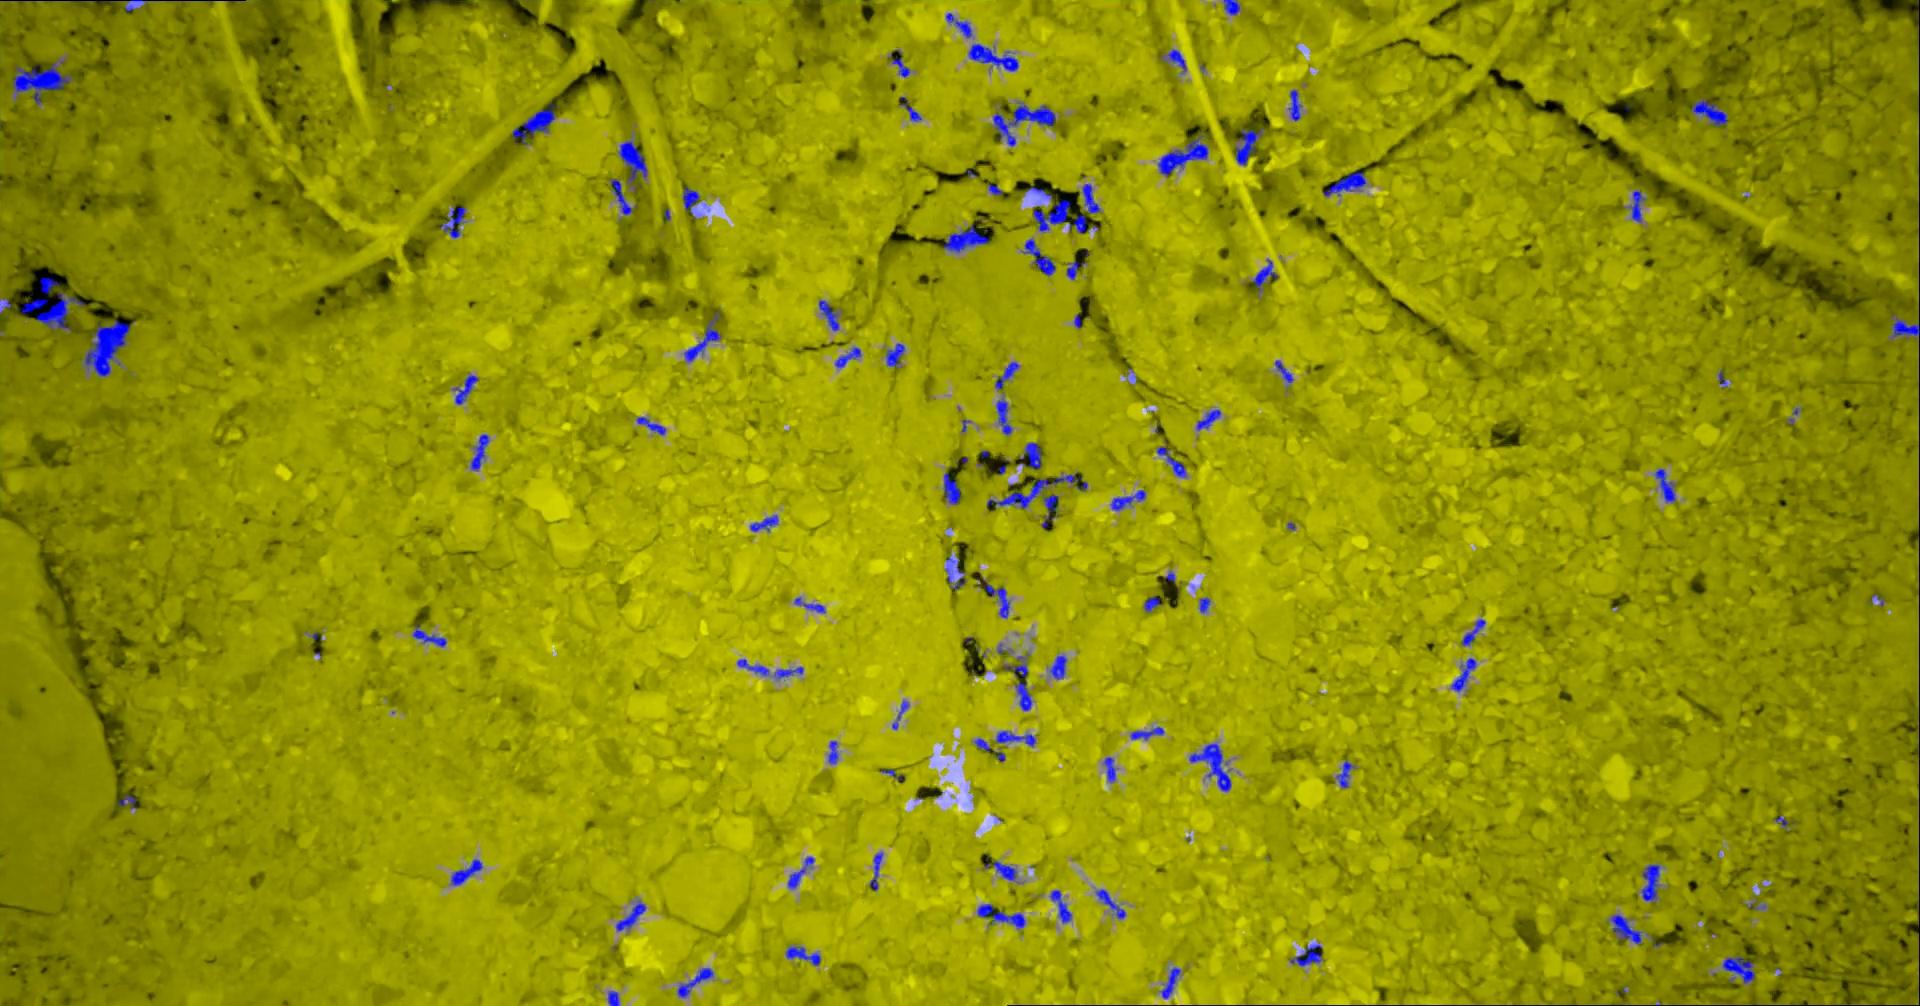ant: (985, 473, 1087, 508), (992, 102, 1055, 146), (11, 64, 70, 104), (1157, 133, 1208, 177), (1189, 743, 1230, 791), (683, 312, 720, 361), (510, 103, 554, 144), (968, 43, 1018, 71), (1032, 198, 1070, 231), (943, 224, 988, 251), (1023, 238, 1055, 276), (618, 140, 646, 183), (979, 578, 1010, 617), (977, 903, 1023, 929), (1234, 127, 1263, 165), (677, 967, 712, 997), (1322, 171, 1365, 196), (1156, 446, 1186, 478), (1691, 99, 1727, 126), (450, 857, 483, 885), (1095, 889, 1125, 918), (615, 901, 645, 930), (1722, 955, 1754, 983), (1450, 657, 1476, 691), (1611, 915, 1641, 944), (984, 854, 1016, 880), (411, 622, 446, 647), (610, 178, 632, 213), (439, 206, 465, 238), (1252, 259, 1277, 291), (787, 856, 813, 888), (1110, 489, 1145, 511), (452, 375, 477, 404), (1049, 889, 1070, 922), (1655, 467, 1675, 502), (945, 11, 971, 37), (785, 946, 820, 965), (994, 361, 1018, 389), (1290, 944, 1321, 965), (1641, 864, 1658, 901), (470, 434, 488, 470), (1078, 183, 1100, 212), (818, 300, 838, 330), (1462, 619, 1484, 645), (1161, 967, 1180, 998), (996, 730, 1035, 746), (1018, 442, 1041, 467), (1891, 316, 1919, 337), (996, 398, 1011, 434), (834, 345, 860, 367), (943, 471, 960, 504), (1041, 494, 1058, 527), (792, 596, 825, 612), (869, 852, 883, 890), (737, 658, 768, 674), (899, 97, 921, 121), (1196, 409, 1220, 431), (636, 417, 665, 434), (1015, 680, 1031, 710), (891, 50, 909, 77), (1336, 760, 1354, 788), (1004, 655, 1027, 677), (885, 342, 904, 367), (891, 700, 908, 729), (1629, 191, 1644, 221), (682, 185, 698, 213), (749, 514, 777, 531), (1167, 50, 1186, 72), (1274, 359, 1293, 382), (1288, 89, 1302, 119), (1130, 727, 1163, 739), (1049, 655, 1065, 680), (1065, 260, 1086, 279), (773, 666, 803, 678), (1067, 213, 1086, 232), (1143, 594, 1159, 612), (1103, 757, 1115, 781), (124, 0, 146, 11), (117, 795, 136, 808), (1223, 0, 1239, 14), (974, 738, 990, 751), (828, 741, 837, 763), (988, 183, 1002, 196), (1199, 597, 1210, 612), (607, 989, 618, 1005)
